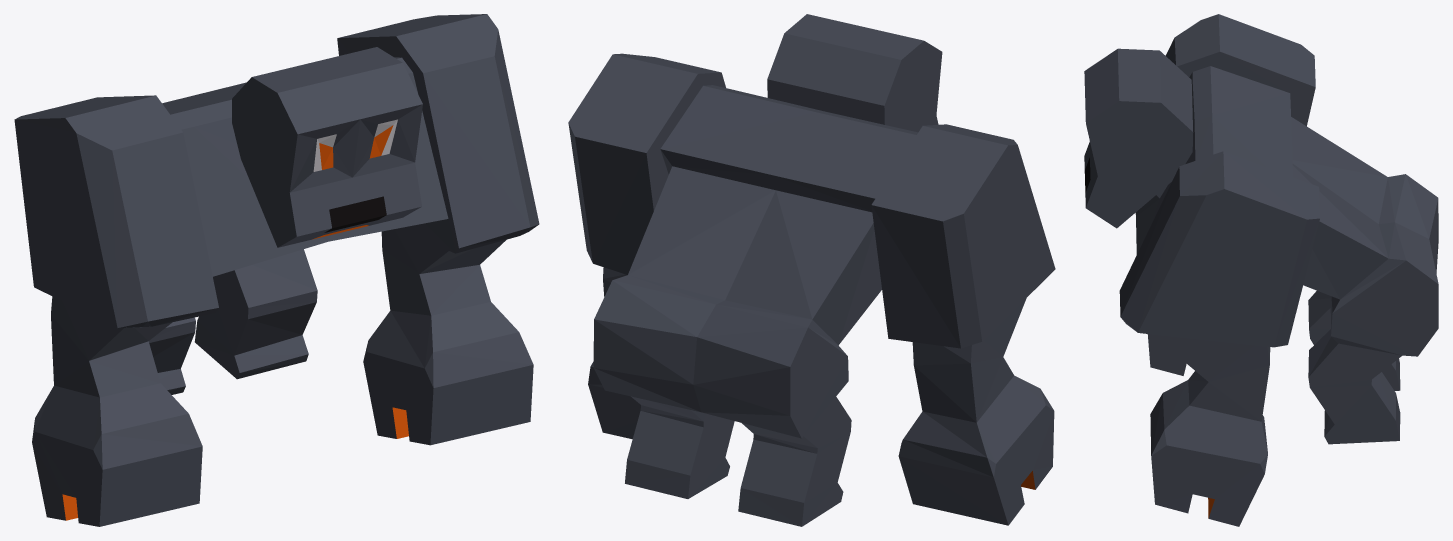
Rendered from kong_000018.obj.
3 views of the same model, side by side, from view 1: azimuth 30°, elevation 25°; view 2: azimuth 150°, elevation 25°; view 3: azimuth 270°, elevation 25° (orthographic). The views are drawn at different scales.
Visible parts, largest first — view 1: Cube; view 2: Cube; view 3: Cube.
Boxes of the visible parts, x1,y1,x2,y2 form: Cube: [14, 14, 539, 526]; Cube: [568, 14, 1055, 526]; Cube: [1084, 14, 1438, 526].
Bounding box in the file's own units: 5.85 × 5.61 × 4.92.
1 material, 1 textured.
